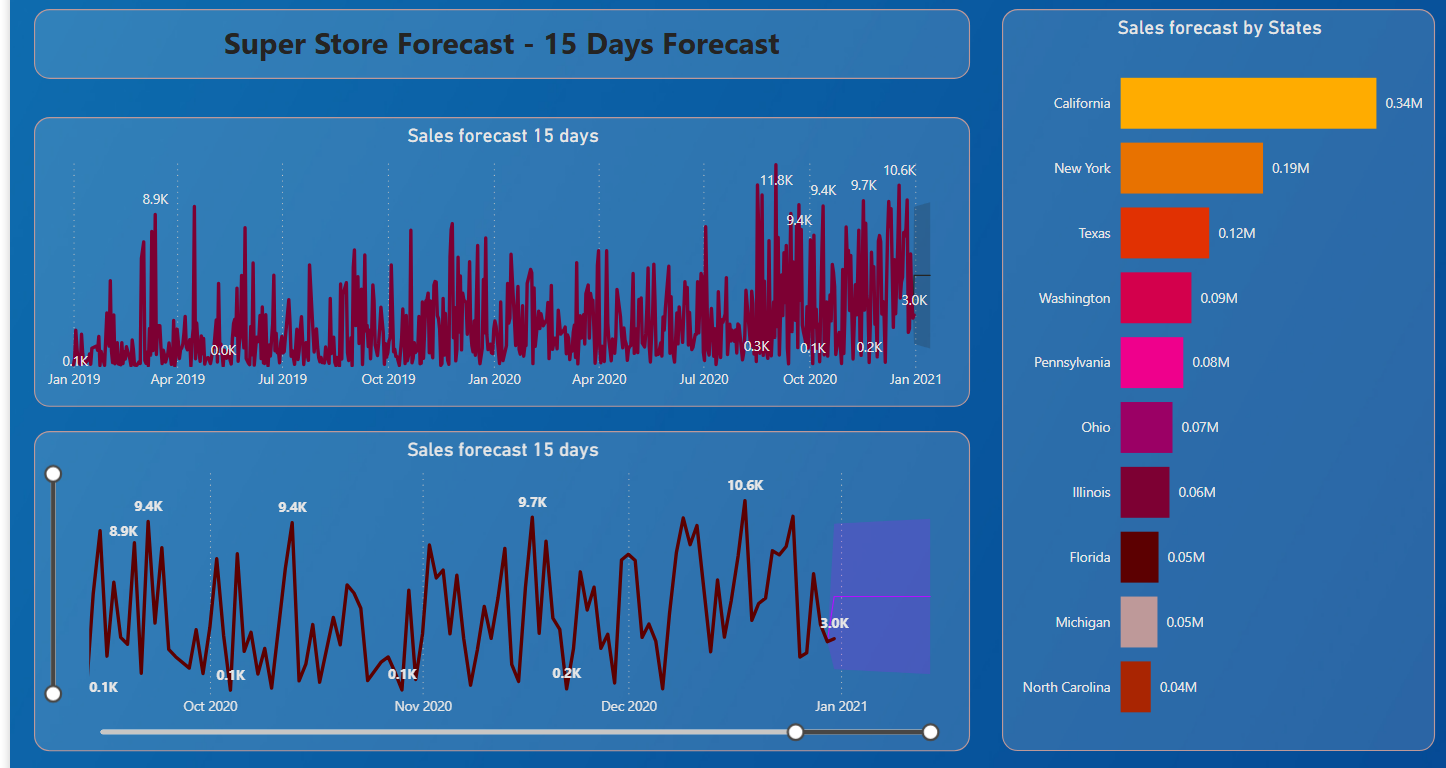

What the dashboard file says about the page in this screenshot:
{"tool":"powerbi","page":{"name":"Page 2","canvas":[1280,720],"ordinal":1},"visuals":[{"type":"lineChart","title":"Sales forecast 15 days","fields":{"Y":["Sum(SuperStore_Sales_Dataset.Sales)"],"Category":["SuperStore_Sales_Dataset.Order Date"]},"box":[21.4,394.9,829.7,284],"z":1},{"type":"lineChart","title":"Sales forecast 15 days","fields":{"Y":["Sum(SuperStore_Sales_Dataset.Sales)"],"Category":["SuperStore_Sales_Dataset.Order Date"]},"box":[21.4,115.7,829.7,256.8],"z":2},{"type":"textbox","box":[21.4,20.4,829.7,62.2],"z":3},{"type":"clusteredBarChart","title":"Sales forecast by States","fields":{"Y":["Sum(SuperStore_Sales_Dataset.Sales)"],"Category":["SuperStore_Sales_Dataset.State"]},"box":[879.3,20.4,384.2,658.5],"z":4}]}

Visuals, with their boxes on the page's 1280x720 design canvas (x1, y1, x2, y2). These are canvas units, not pixel positions in the 1446x768 screenshot, which may show the page scaled, cropped or inside an application window:
"Sales forecast 15 days" lineChart: (21,395,851,679)
"Sales forecast 15 days" lineChart: (21,116,851,372)
textbox: (21,20,851,83)
"Sales forecast by States" clusteredBarChart: (879,20,1264,679)
